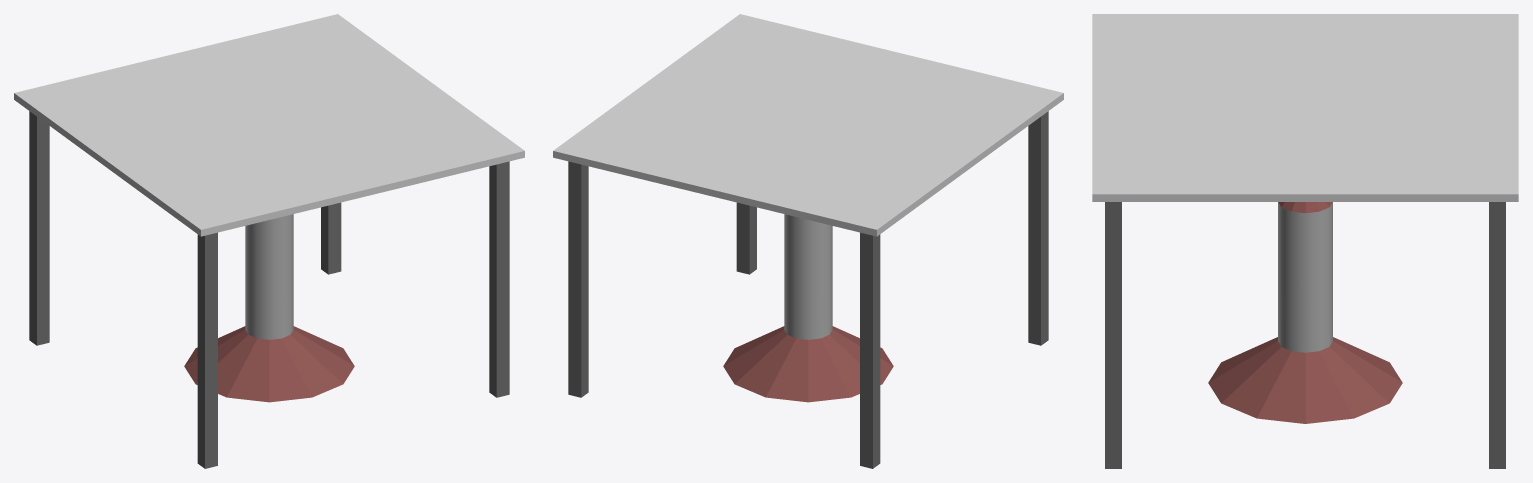
The model's file is Burner & Stand.fbx.
3 views of the same model, side by side, from view 1: azimuth 30°, elevation 25°; view 2: azimuth 150°, elevation 25°; view 3: azimuth 270°, elevation 25° (orthographic). The views are drawn at different scales.
Visible parts, largest first — view 1: Stand, Burner Base, Burner; view 2: Stand, Burner Base, Burner; view 3: Stand, Burner Base, Burner, Burner.001.
Part boxes in pixels (<box>): Stand: <box>14,14,524,468</box>; Burner Base: <box>184,326,354,402</box>; Burner: <box>245,214,293,339</box>; Stand: <box>553,14,1063,468</box>; Burner Base: <box>723,326,893,402</box>; Burner: <box>784,214,832,339</box>; Stand: <box>1092,14,1518,468</box>; Burner Base: <box>1208,337,1402,423</box>; Burner: <box>1278,202,1332,352</box>; Burner.001: <box>1278,202,1332,213</box>.
Bounding box in the file's own units: 100 × 72.44 × 100.
